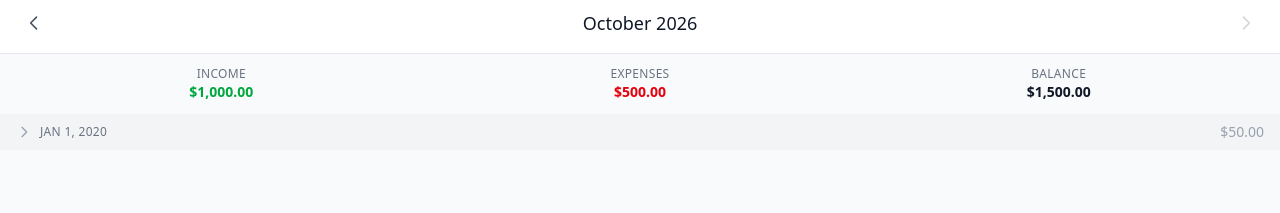
Scenario: TransactionList › collapsible sections › clicking date header expands collapsed section
Expected: the text "Food" is not shown
Click the date header to expand
Click the element showing "Jan 1, 2020 $50.00" at (640, 132), box [0,114,1279,150]
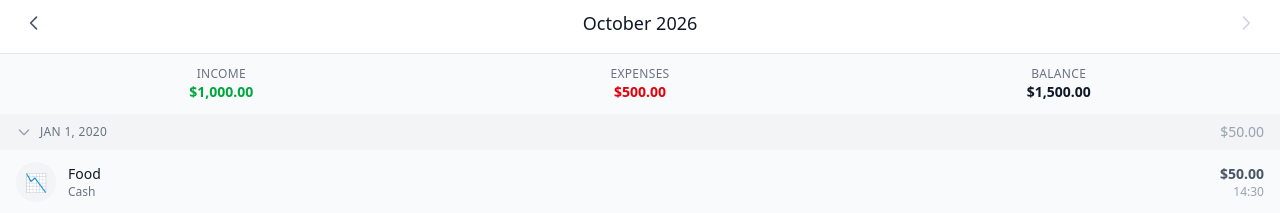
Now the text "Food" is shown, box [68,164,101,183]
